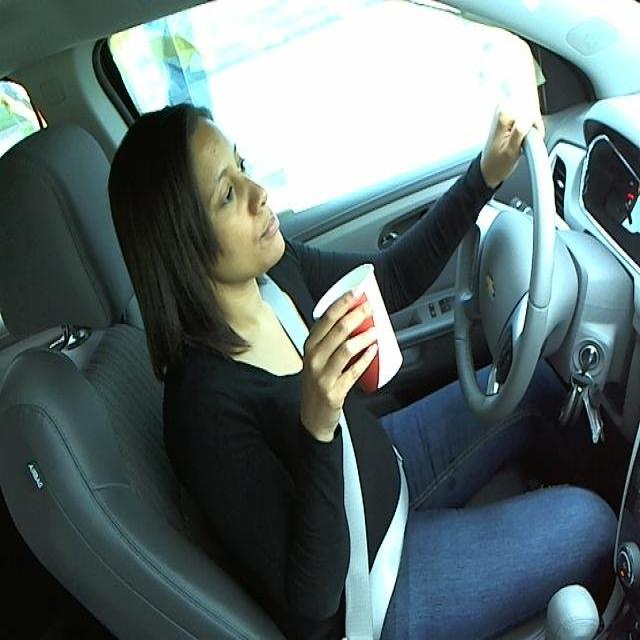drinking: (314, 259, 408, 392)
